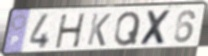4: (27, 12, 52, 52)
6: (173, 9, 198, 45)
H: (54, 12, 87, 51)
K: (85, 12, 113, 48)
Q: (113, 10, 143, 48)
X: (138, 9, 174, 47)
